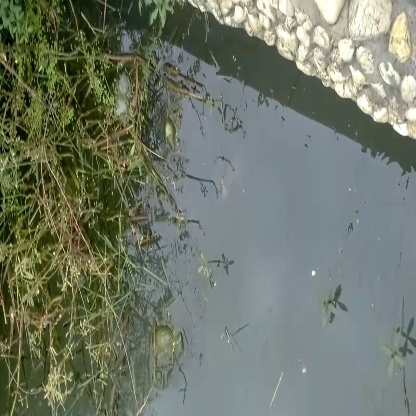plastic-bag: (141, 315, 195, 387)
